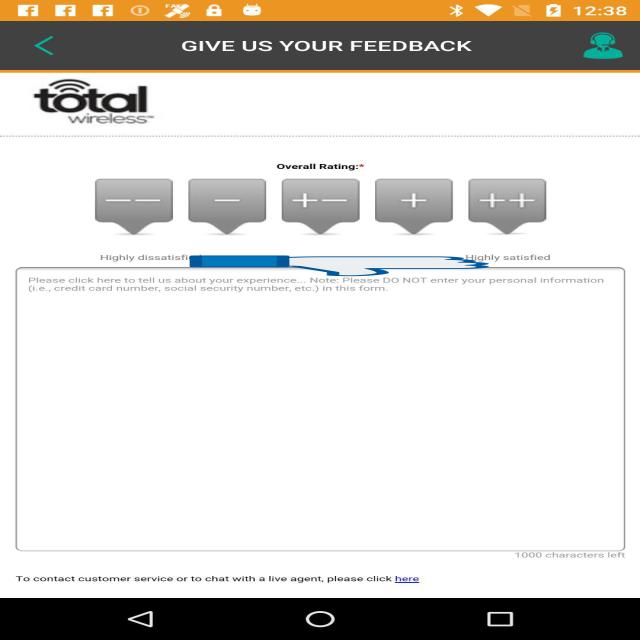obstruction: (190, 255, 489, 277)
